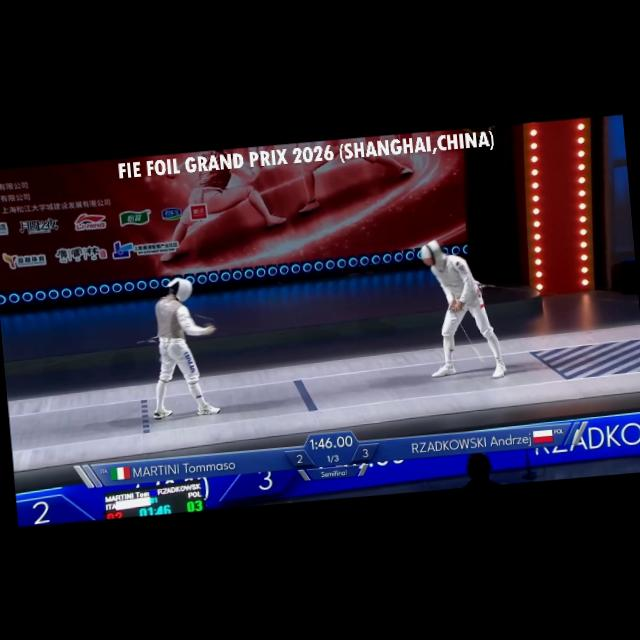blade: (446, 296, 488, 370), (190, 309, 223, 335)
